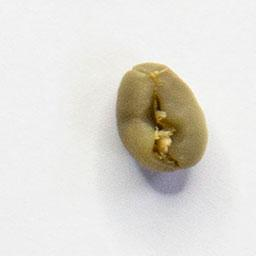peaberry: (112, 59, 212, 177)
